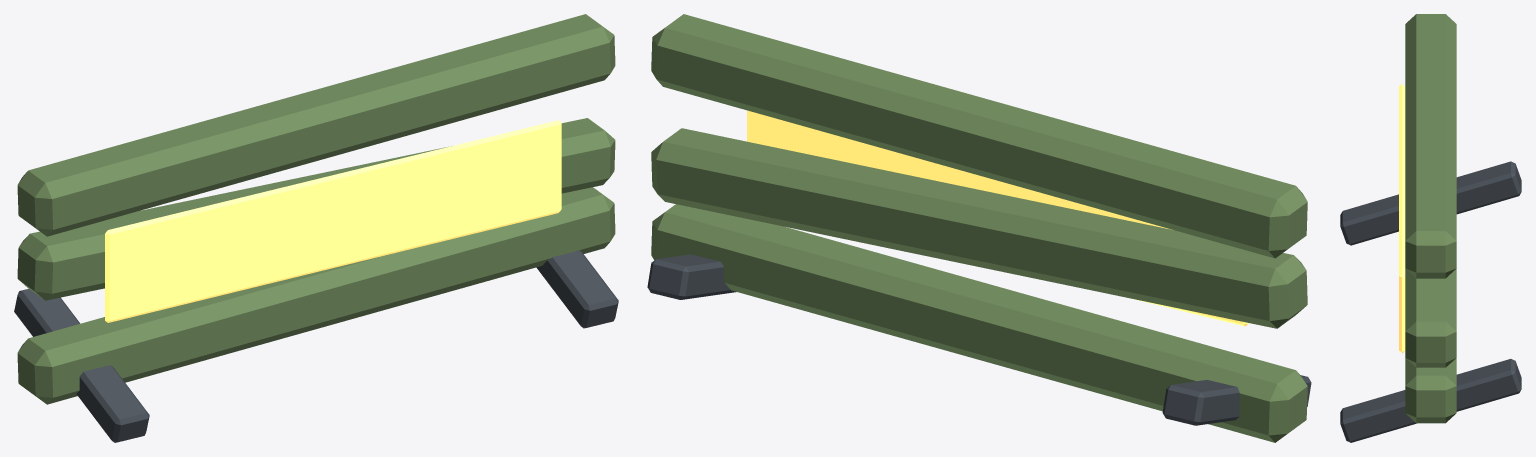
File: la-sponsoredbarricade.glb
The picture shows the model from 3 angles, left to right: view 1: azimuth 30°, elevation 25°; view 2: azimuth 150°, elevation 25°; view 3: azimuth 270°, elevation 25°; orthographic projection. The views are drawn at different scales.
Parts seen in each view (by area): view 1: AD_SURFACE_BARRICADE, Barricade_Rail.002, Barricade_Rail, Barricade_Rail.001, Barricade_Leg, Barricade_Leg.001; view 2: Barricade_Rail.002, Barricade_Rail.001, Barricade_Rail, AD_SURFACE_BARRICADE, Barricade_Leg, Barricade_Leg.001; view 3: Barricade_Rail.002, Barricade_Leg.001, Barricade_Rail.001, Barricade_Leg, Barricade_Rail, AD_SURFACE_BARRICADE.
Part boxes in pixels (<box>): AD_SURFACE_BARRICADE: <box>105,120,561,322</box>; Barricade_Rail.002: <box>17,14,615,236</box>; Barricade_Rail: <box>17,187,615,404</box>; Barricade_Rail.001: <box>17,118,615,300</box>; Barricade_Leg: <box>14,289,149,442</box>; Barricade_Leg.001: <box>536,250,618,328</box>; Barricade_Rail.002: <box>651,14,1307,258</box>; Barricade_Rail.001: <box>651,128,1307,328</box>; Barricade_Rail: <box>651,204,1307,442</box>; AD_SURFACE_BARRICADE: <box>747,110,1248,326</box>; Barricade_Leg: <box>1162,375,1311,425</box>; Barricade_Leg.001: <box>647,254,735,299</box>; Barricade_Rail.002: <box>1405,14,1456,278</box>; Barricade_Leg.001: <box>1340,359,1521,442</box>; Barricade_Rail.001: <box>1405,269,1456,367</box>; Barricade_Leg: <box>1340,161,1521,245</box>; Barricade_Rail: <box>1405,358,1456,423</box>; AD_SURFACE_BARRICADE: <box>1399,84,1405,353</box>.
Size of the model in its own units: 4.71 by 2.02 by 1.48.
